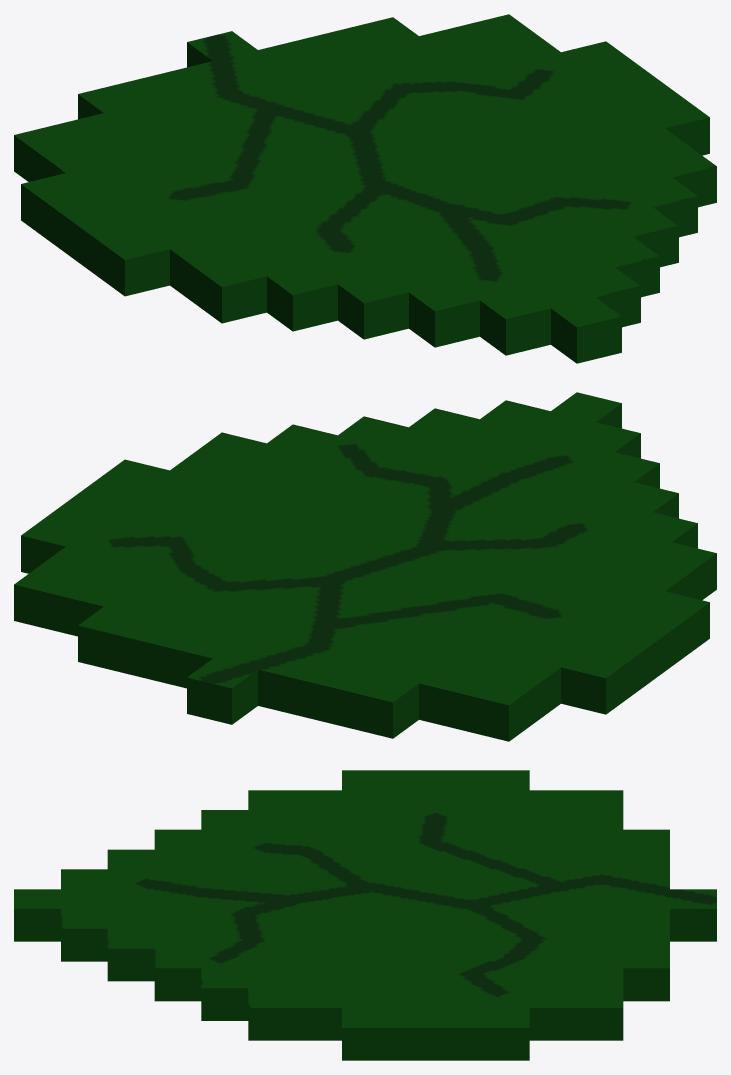
File: VineFloorLeaf.obj
The picture shows the model from 3 angles, top to bottom: view 1: azimuth 30°, elevation 25°; view 2: azimuth 150°, elevation 25°; view 3: azimuth 270°, elevation 25°; orthographic projection. The views are drawn at different scales.
Parts seen in each view (by area): view 1: 円柱; view 2: 円柱; view 3: 円柱.
Part boxes in pixels (box(x1,y1,x2,y2)): 円柱: box(14, 14, 716, 363); 円柱: box(14, 392, 716, 741); 円柱: box(14, 770, 716, 1060).
Size of the model in its own units: 0.8832 by 0.0524 by 1.02.
1 material, 1 textured.
